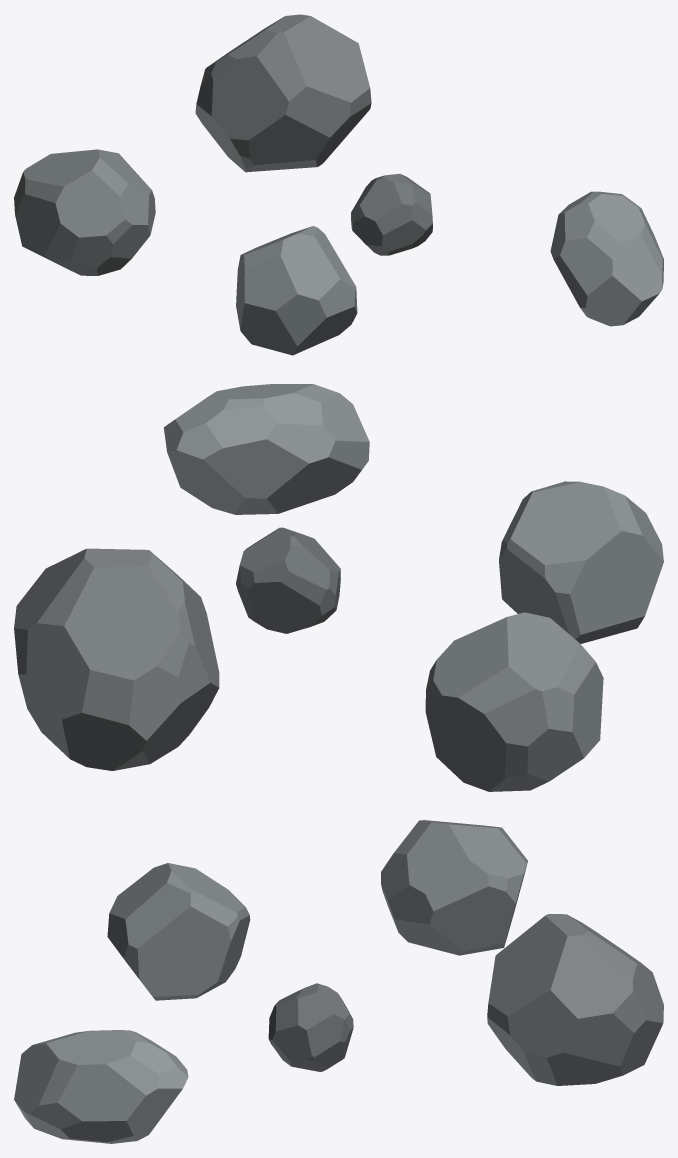
Rendered from NHP_Rock_Cobble_A1_02.fbx.
3 renders of one model, top to bottom at view 1: azimuth 30°, elevation 25°; view 2: azimuth 150°, elevation 25°; view 3: azimuth 270°, elevation 25°, orthographic. The views are drawn at different scales.
Parts seen in each view (by area): view 1: NHP_Rock_Cobble_A1_02_LOD0; view 2: NHP_Rock_Cobble_A1_02_LOD0; view 3: NHP_Rock_Cobble_A1_02_LOD0.
Part boxes in pixels (bbox=[...]): NHP_Rock_Cobble_A1_02_LOD0: bbox=[14, 14, 663, 355]; NHP_Rock_Cobble_A1_02_LOD0: bbox=[14, 384, 663, 791]; NHP_Rock_Cobble_A1_02_LOD0: bbox=[14, 820, 663, 1143].
Size of what is drawn, in the model's own units: 1.12 by 0.3207 by 1.24.
